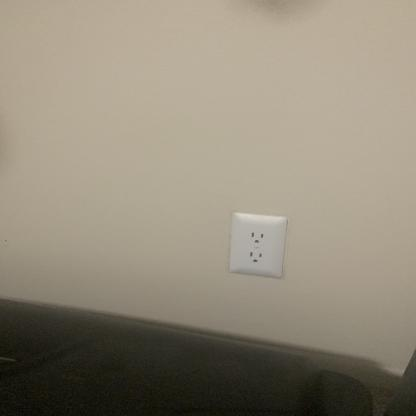OUTLET: (230, 213, 286, 279)
